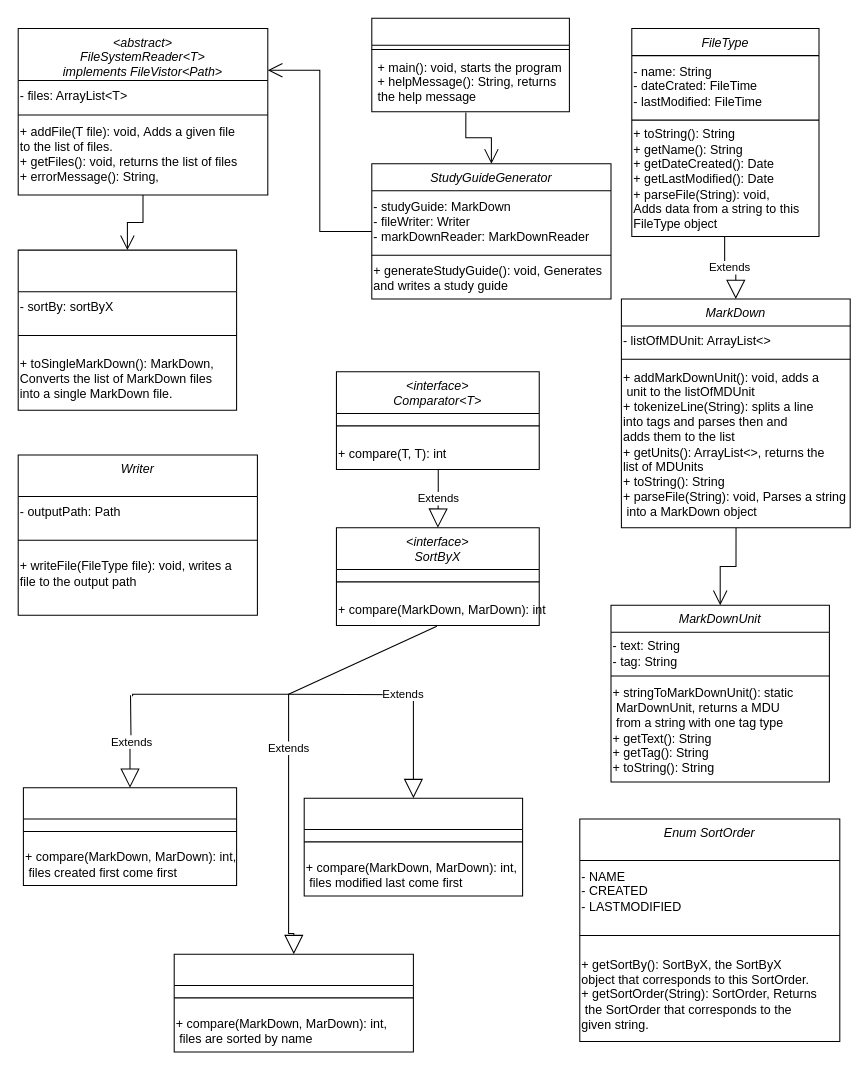
The diagram is 868 pixels wide and 1070 high, and some of its shapes have lost their labels. Here are the shapes that lost their labels. From the top down, the box of each, then its label:
(371, 17, 569, 112): Driver
(17, 249, 237, 410): MarkDownReader
(22, 787, 237, 886): SortByCreated
(303, 797, 523, 896): SortByModified
(173, 953, 413, 1052): SortByName
